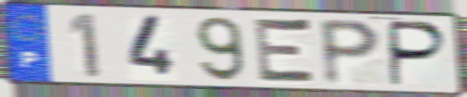1: (68, 11, 103, 81)
4: (126, 12, 182, 83)
9: (192, 15, 248, 84)
E: (253, 14, 320, 88)
P: (317, 17, 385, 88), (387, 18, 450, 89)
